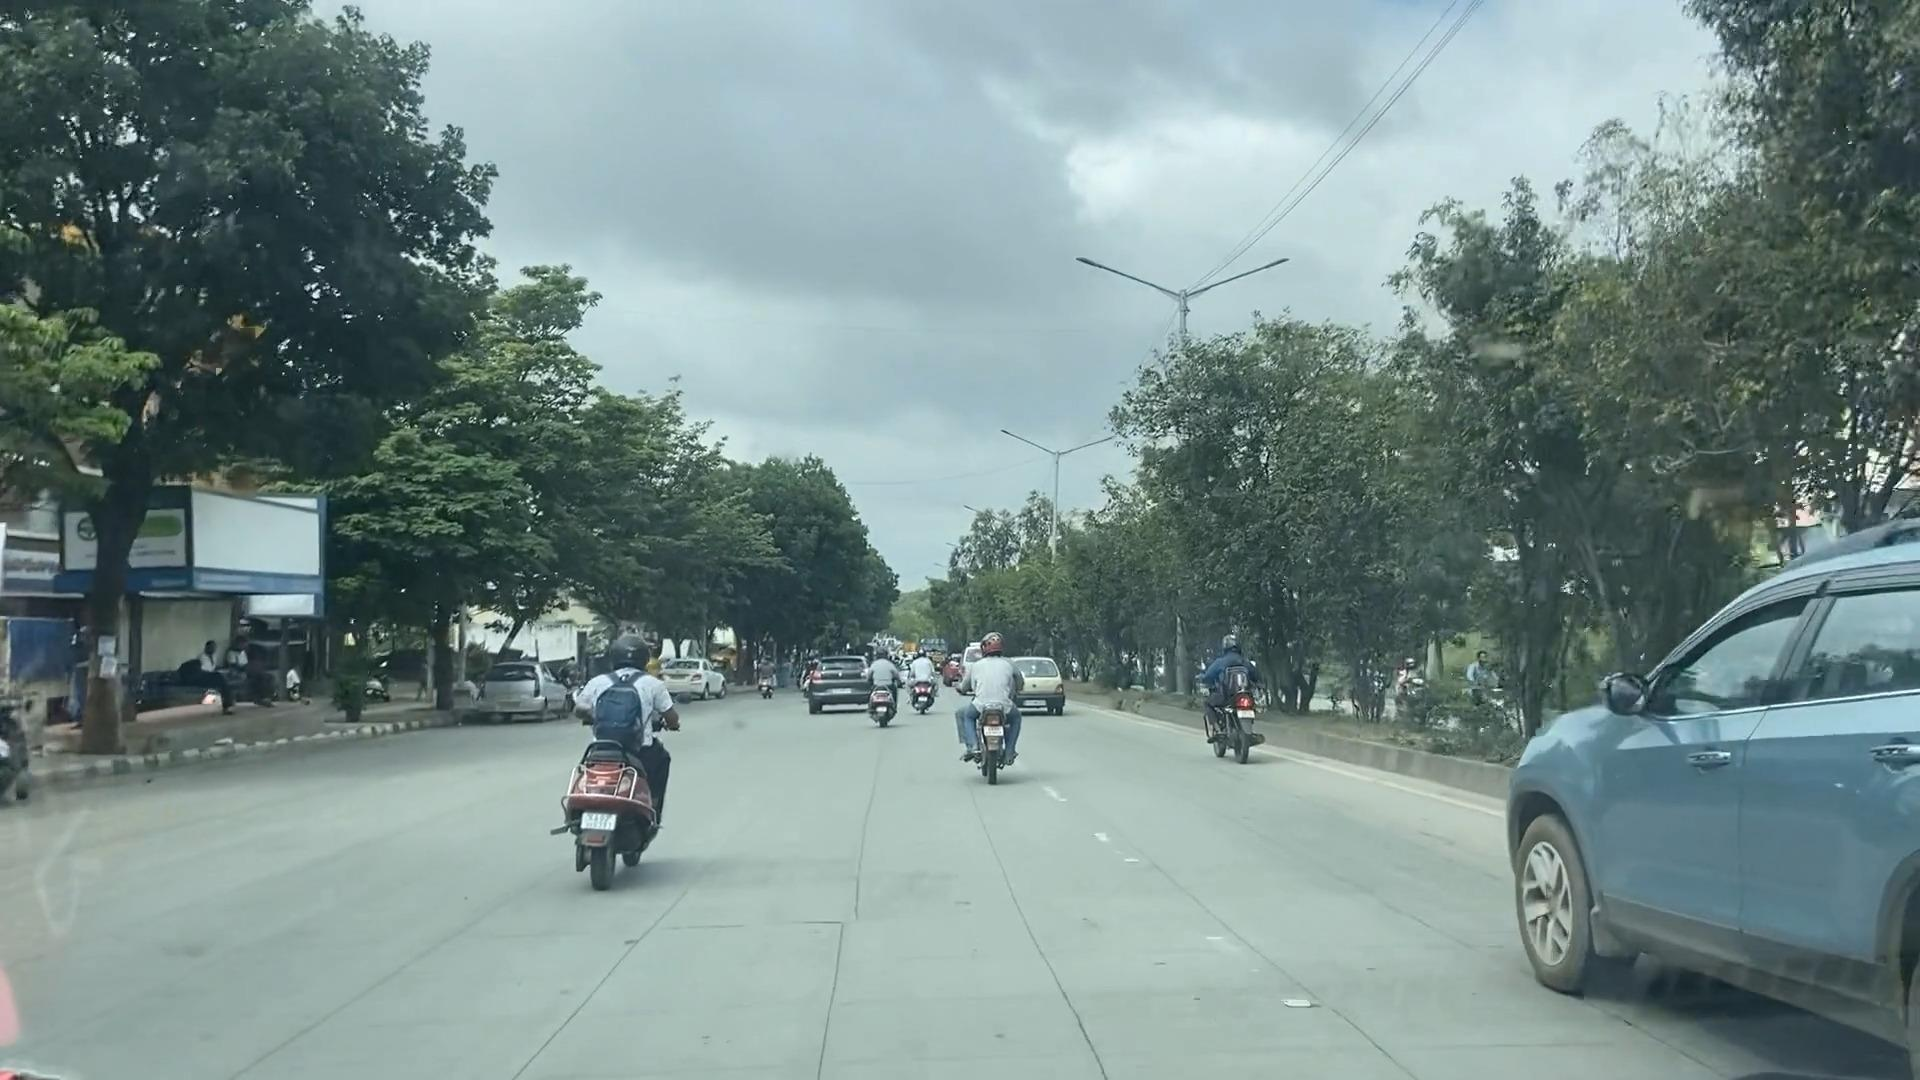LMV: (944, 611, 1060, 819)
